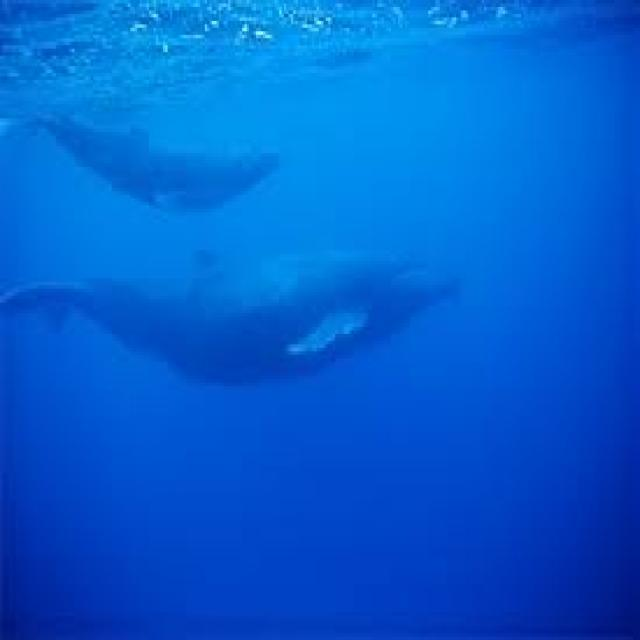blue_whale: (21, 232, 468, 504), (21, 90, 289, 226)
